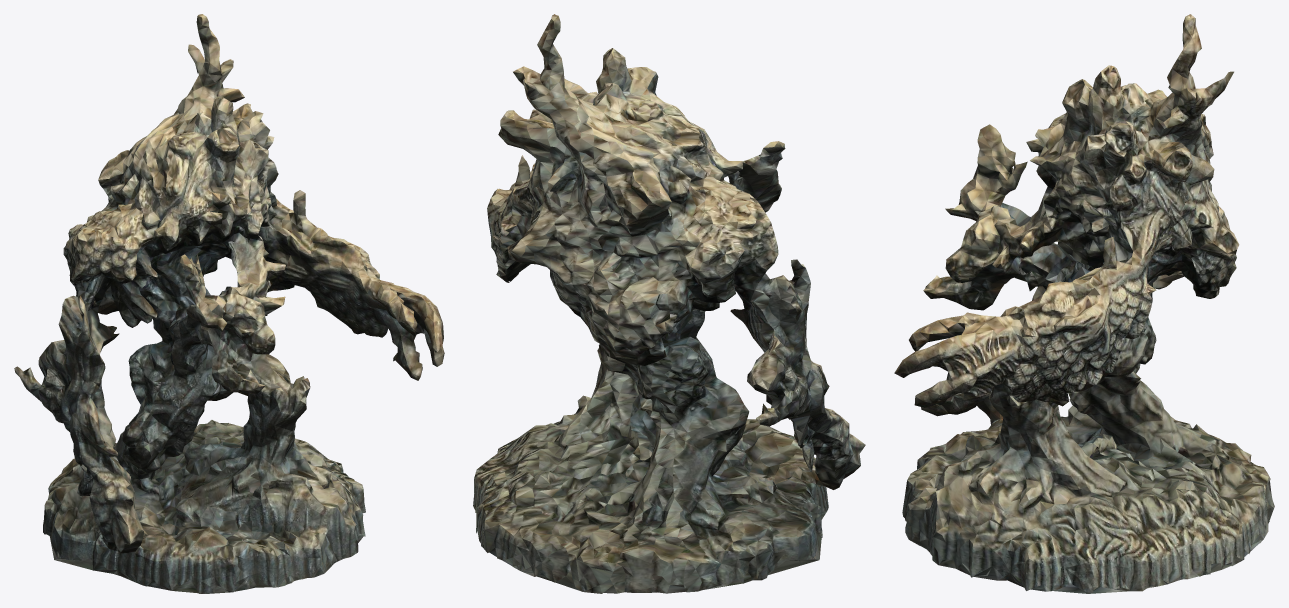
The model's file is mulch_man.glb.
The picture shows the model from 3 angles, left to right: view 1: azimuth 30°, elevation 25°; view 2: azimuth 150°, elevation 25°; view 3: azimuth 270°, elevation 25°; orthographic projection. The views are drawn at different scales.
Visible parts, largest first — view 1: geometry_0; view 2: geometry_0; view 3: geometry_0.
Part boxes in pixels (box(x1,y1,x2,y2)): geometry_0: box(14, 14, 444, 593); geometry_0: box(473, 14, 865, 593); geometry_0: box(894, 14, 1274, 593).
Size of the model in its own units: 0.0274 by 0.0382 by 0.025.
1 material, 1 textured.
